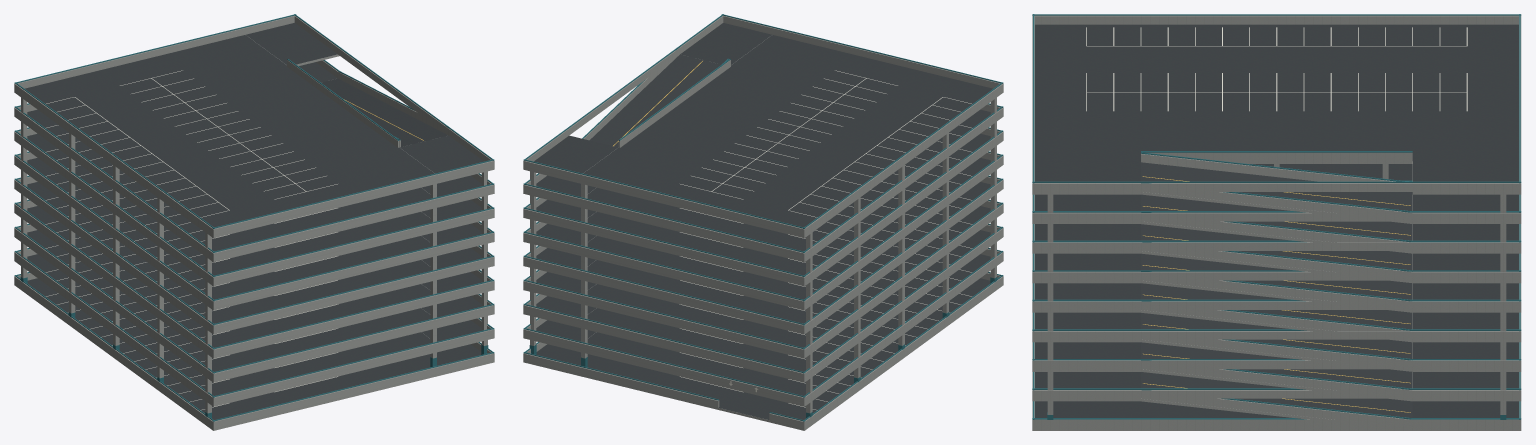
Rendered from medium_09.glb.
3 views of the same model, side by side, from view 1: azimuth 30°, elevation 25°; view 2: azimuth 150°, elevation 25°; view 3: azimuth 270°, elevation 25° (orthographic). The views are drawn at different scales.
Parts seen in each view (by area): view 1: medium_09_Asphalt, medium_09_Concrete, medium_09_Teal, medium_09_Paint; view 2: medium_09_Asphalt, medium_09_Concrete, medium_09_Teal, medium_09_Paint; view 3: medium_09_Asphalt, medium_09_Concrete, medium_09_Teal, medium_09_Paint, medium_09_Yellow.
Part boxes in pixels (<box>): medium_09_Asphalt: <box>25,23,483,419</box>; medium_09_Concrete: <box>14,15,494,430</box>; medium_09_Teal: <box>14,14,494,421</box>; medium_09_Paint: <box>45,70,338,410</box>; medium_09_Asphalt: <box>534,23,992,419</box>; medium_09_Concrete: <box>523,15,1003,430</box>; medium_09_Teal: <box>523,14,1003,421</box>; medium_09_Paint: <box>679,70,972,410</box>; medium_09_Asphalt: <box>1035,24,1518,417</box>; medium_09_Concrete: <box>1032,15,1521,430</box>; medium_09_Teal: <box>1032,14,1521,419</box>; medium_09_Paint: <box>1086,27,1467,111</box>; medium_09_Yellow: <box>1142,176,1410,412</box>.
Size of the model in its own units: 44 by 30.28 by 54.02.
6 materials, 2 textured.
